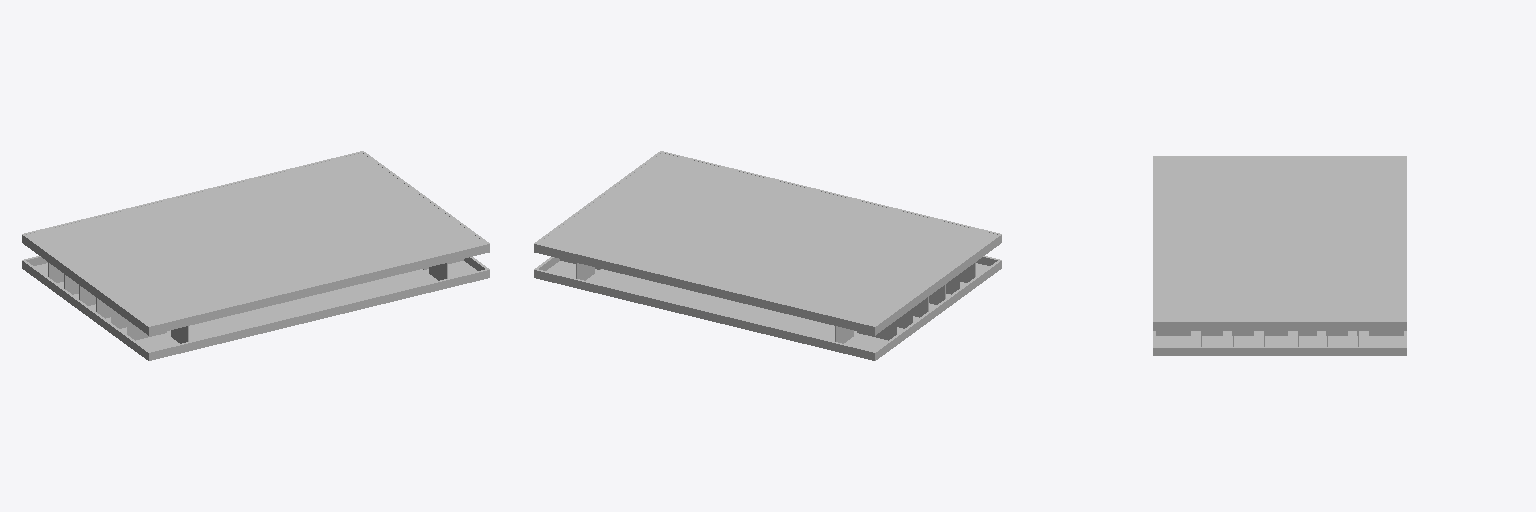
Rendered from Envelope_ForStrip_WWR50p_9ft.obj.
3 renders of one model, left to right at view 1: azimuth 30°, elevation 25°; view 2: azimuth 150°, elevation 25°; view 3: azimuth 270°, elevation 25°, orthographic.
Visible parts, largest first — view 1: Envelope_ForStrip_WWR50p_9ft.obj; view 2: Envelope_ForStrip_WWR50p_9ft.obj; view 3: Envelope_ForStrip_WWR50p_9ft.obj.
Boxes of the visible parts, box(x1,y1,x2,y2) form: Envelope_ForStrip_WWR50p_9ft.obj: box(22, 151, 489, 360); Envelope_ForStrip_WWR50p_9ft.obj: box(534, 151, 1001, 360); Envelope_ForStrip_WWR50p_9ft.obj: box(1153, 156, 1406, 355).
Size of the model in its own units: 38.72 by 3.69 by 24.94.